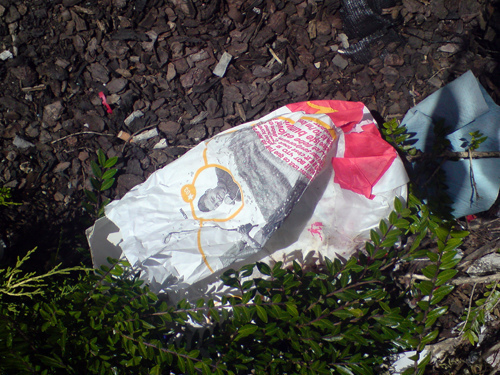litter: (82, 95, 410, 319), (412, 69, 500, 219)
